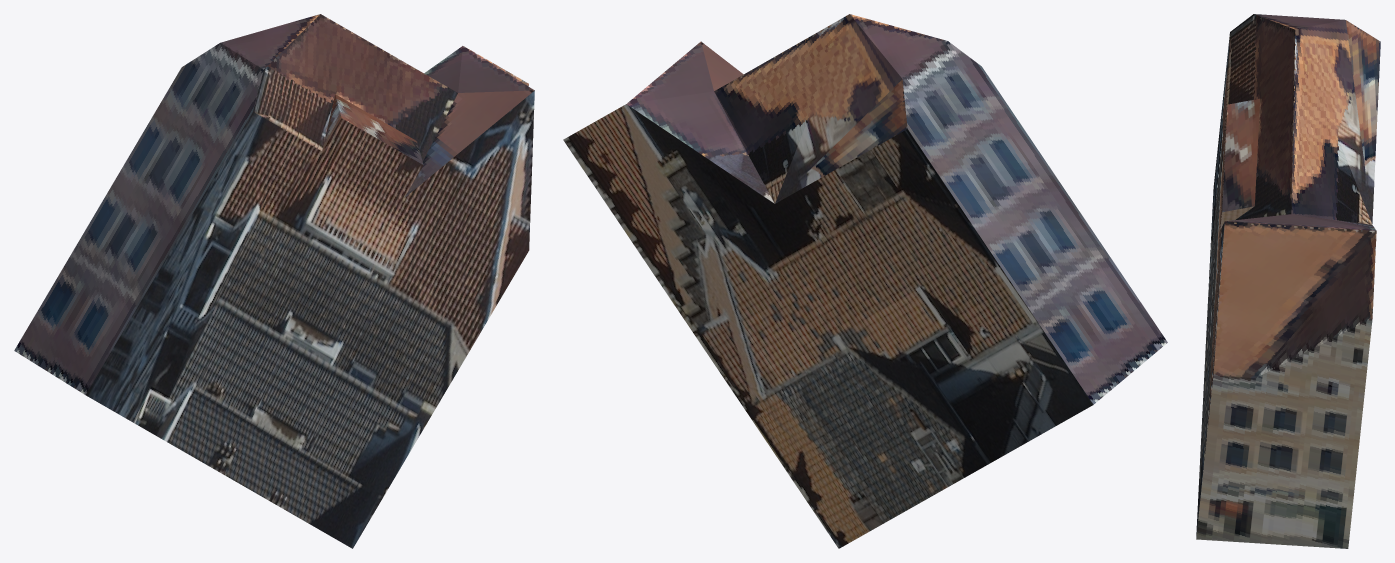
3 renders of one model, left to right at view 1: azimuth 30°, elevation 25°; view 2: azimuth 150°, elevation 25°; view 3: azimuth 270°, elevation 25°, orthographic. The views are drawn at different scales.
Visible parts, largest first — view 1: BAG_0599100000760366 (×5); view 2: BAG_0599100000760366 (×3); view 3: BAG_0599100000760366 (×5).
Part boxes in pixels (x1,y1,x2,y2): BAG_0599100000760366 (×5): [14, 14, 534, 548]; BAG_0599100000760366 (×3): [563, 14, 1167, 548]; BAG_0599100000760366 (×5): [1196, 14, 1380, 548].
Bounding box in the file's own units: 25.28 × 23.47 × 7.46.
5 materials, 5 textured.
